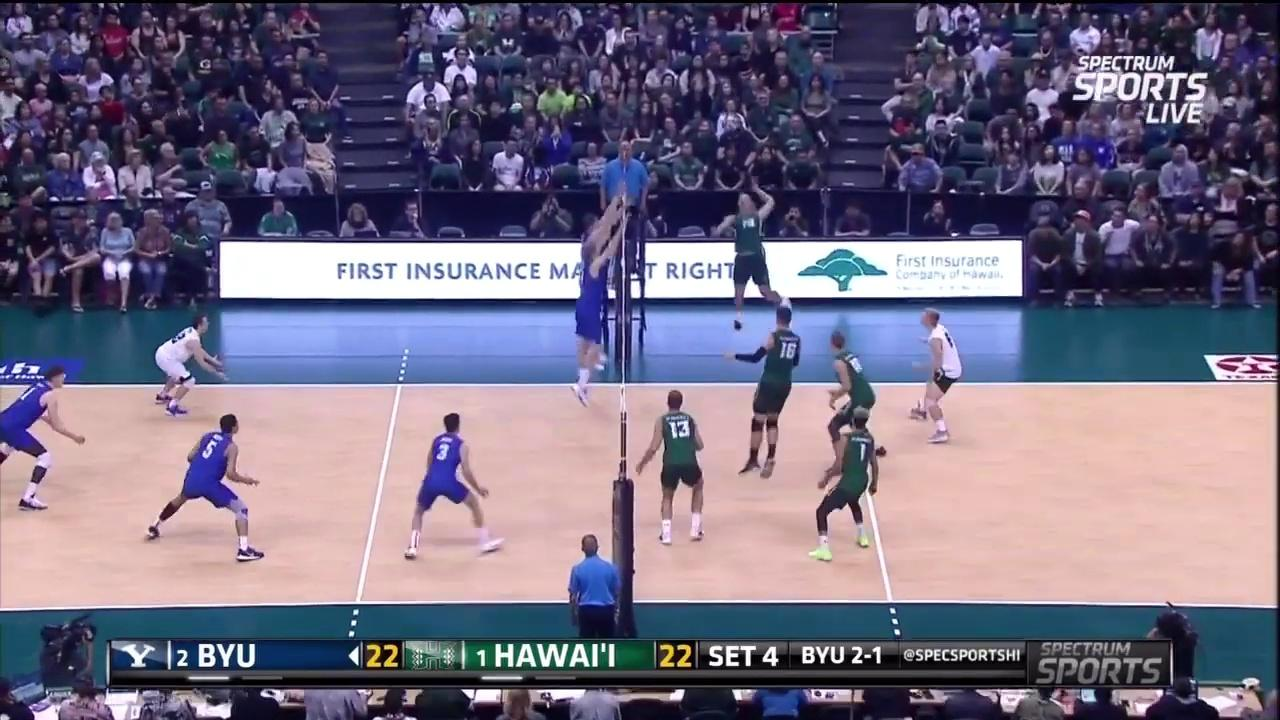player: (143, 415, 265, 559), (402, 412, 506, 563), (728, 307, 799, 478), (0, 371, 85, 509), (812, 409, 883, 569), (719, 190, 799, 327), (642, 388, 710, 542), (817, 326, 886, 469), (154, 315, 230, 414), (907, 309, 962, 442), (571, 208, 616, 369), (576, 237, 612, 410)
refree: (559, 531, 630, 641), (599, 134, 653, 248)
